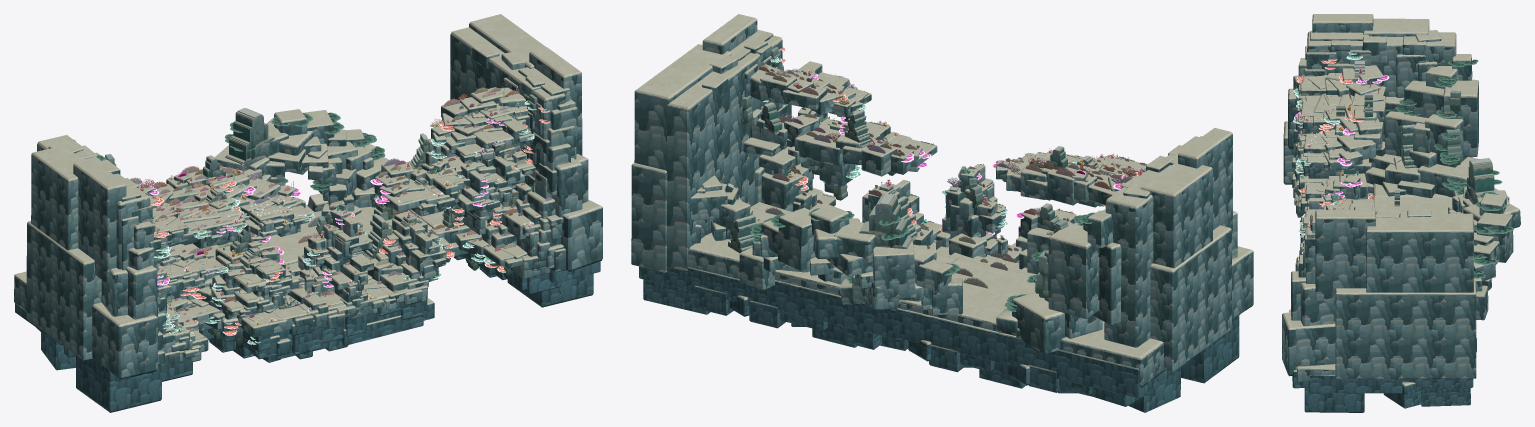
The picture shows the model from 3 angles, left to right: view 1: azimuth 30°, elevation 25°; view 2: azimuth 150°, elevation 25°; view 3: azimuth 270°, elevation 25°; orthographic projection. The views are drawn at different scales.
Size of the model in its own units: 150 by 63.62 by 70.95.
Materials: 38 (38 with a texture image).
